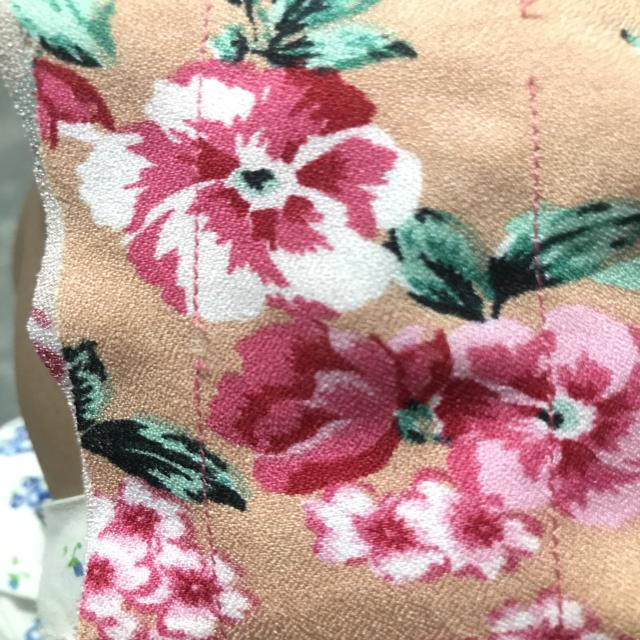broken: (163, 303, 220, 386)
